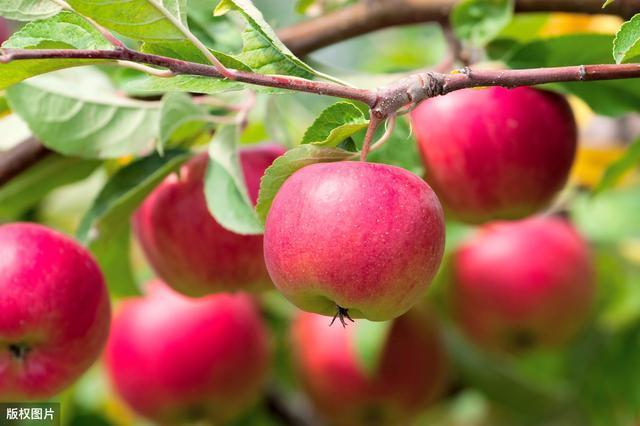apple: (262, 159, 447, 326), (407, 85, 578, 226), (132, 150, 272, 296), (450, 214, 596, 354), (1, 223, 114, 402)
